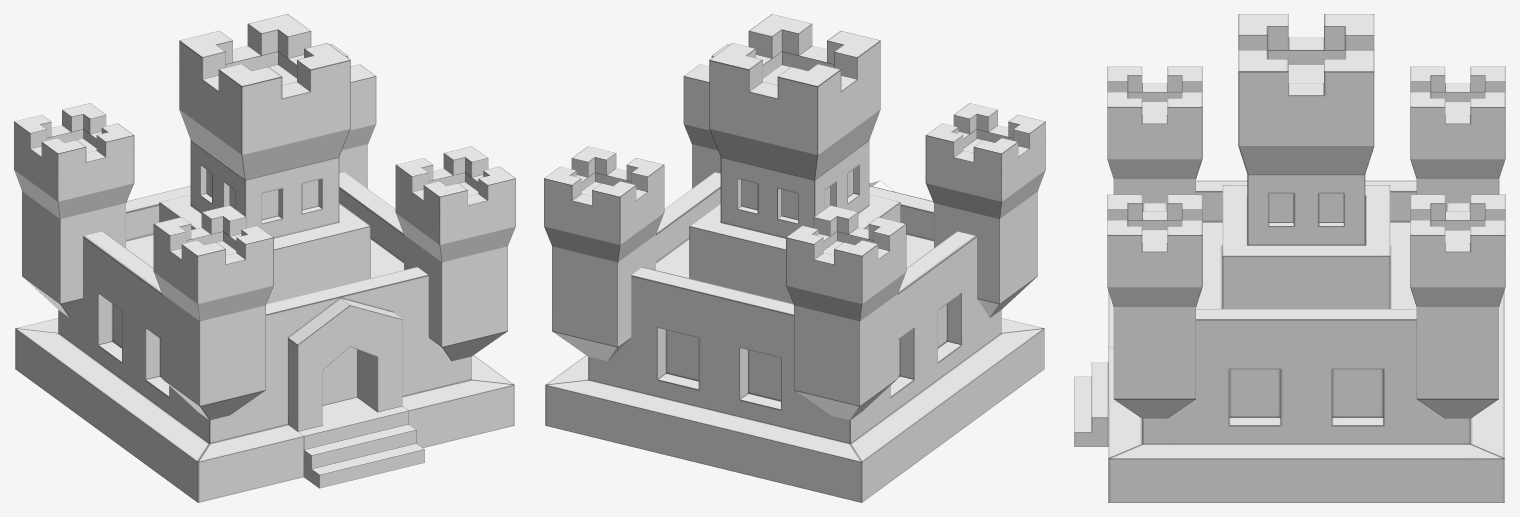
The model's file is Castle-02.fbx.
3 views of the same model, side by side, from view 1: azimuth 30°, elevation 25°; view 2: azimuth 150°, elevation 25°; view 3: azimuth 270°, elevation 25° (orthographic). The views are drawn at different scales.
Visible parts, largest first — view 1: Castle_02; view 2: Castle_02; view 3: Castle_02.
Part boxes in pixels (bbox=[...]): Castle_02: bbox=[14, 14, 515, 502]; Castle_02: bbox=[544, 14, 1045, 502]; Castle_02: bbox=[1074, 14, 1505, 502].
Size of the model in its own units: 5 by 5.22 by 5.41.
